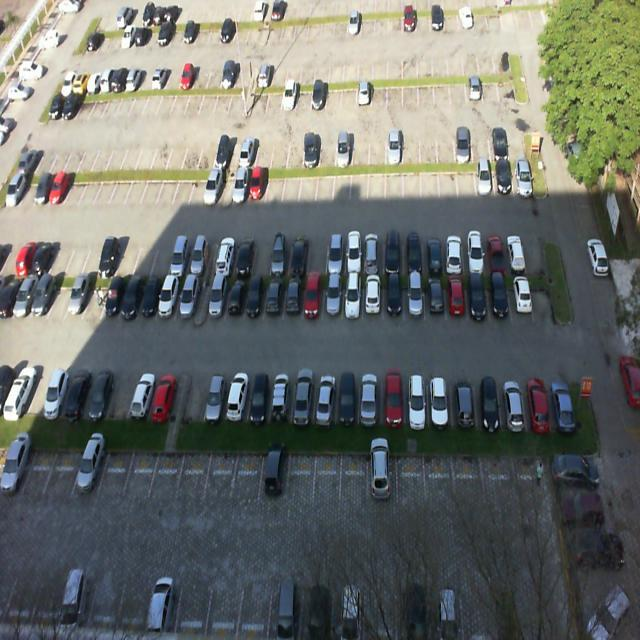space-empty: (94, 445, 132, 502), (123, 442, 158, 502), (148, 444, 182, 500), (43, 445, 78, 499), (231, 451, 264, 504), (204, 448, 238, 498), (175, 445, 208, 496), (312, 451, 342, 507), (21, 446, 55, 494), (288, 449, 314, 504), (106, 371, 134, 422), (530, 270, 557, 318), (181, 373, 206, 418), (130, 236, 156, 276), (113, 238, 140, 276), (155, 165, 178, 208), (525, 229, 548, 272), (148, 237, 172, 278), (188, 164, 211, 206), (139, 165, 162, 205), (172, 165, 193, 208), (307, 234, 328, 273), (251, 235, 272, 272), (458, 162, 478, 198), (299, 166, 317, 205), (267, 166, 284, 207), (283, 164, 300, 205), (368, 162, 386, 200), (422, 163, 440, 198), (333, 165, 350, 202), (388, 162, 404, 200), (403, 163, 420, 198), (440, 162, 458, 195), (316, 166, 332, 200), (351, 164, 367, 198)
space-occupied: (71, 446, 106, 501), (545, 370, 576, 426), (499, 373, 528, 432), (223, 370, 254, 424), (259, 448, 290, 500), (523, 371, 550, 428), (64, 367, 93, 420), (476, 372, 502, 429), (117, 271, 146, 322), (222, 272, 249, 326), (83, 371, 112, 421), (452, 374, 479, 426), (136, 267, 162, 320), (428, 375, 454, 428), (127, 370, 154, 420), (312, 372, 336, 428), (268, 373, 294, 424), (154, 274, 180, 324), (203, 370, 229, 420), (246, 372, 272, 422), (262, 270, 286, 324), (148, 374, 175, 422), (359, 371, 382, 426), (174, 272, 198, 324), (382, 371, 405, 424), (101, 270, 125, 320), (241, 275, 265, 325), (335, 373, 359, 423), (290, 372, 313, 424), (405, 374, 428, 426), (486, 273, 511, 320), (483, 227, 507, 275), (443, 226, 466, 273), (205, 273, 225, 327), (509, 276, 532, 320), (303, 276, 324, 324), (444, 277, 467, 320), (467, 275, 488, 322), (363, 276, 384, 322), (282, 276, 302, 324), (167, 238, 192, 276), (505, 227, 526, 272), (322, 277, 343, 322), (425, 229, 445, 276), (188, 239, 212, 278), (511, 156, 534, 196), (287, 234, 310, 274), (404, 226, 424, 272), (404, 274, 424, 320), (426, 276, 446, 322), (382, 231, 404, 272), (229, 238, 252, 277), (204, 166, 226, 206), (464, 228, 484, 272), (231, 164, 252, 205), (213, 239, 236, 276), (384, 276, 402, 322), (345, 231, 364, 274), (268, 236, 290, 272), (345, 275, 362, 320), (324, 235, 344, 273), (364, 235, 383, 273), (478, 158, 496, 198), (494, 160, 514, 195), (250, 166, 268, 204)
